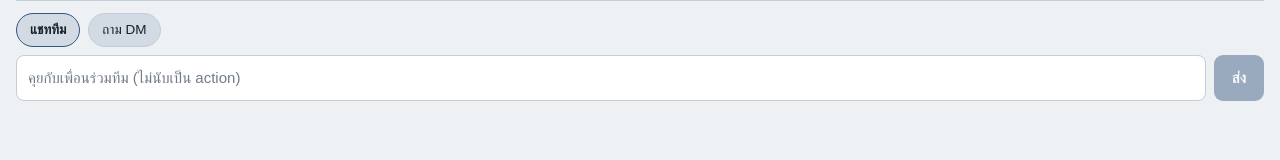
Test: ChatPanel › locks the ask box when the quota is 0 but keeps team chat usable
Click the tab "ถาม DM": [124, 30] box [88, 13, 160, 47]
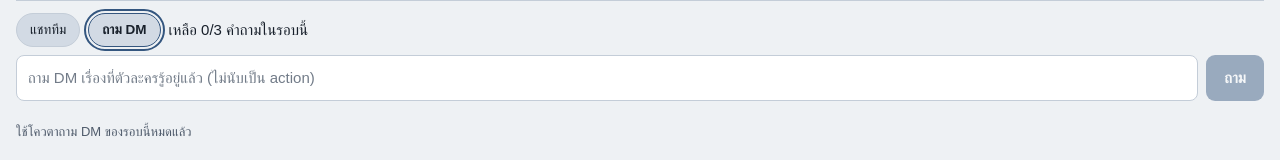
Check: the text "เหลือ 0/3 คำถามในรอบนี้" is shown, box [168, 18, 308, 42]
Check: the field named "คำถามถึง DM" is disabled, box [16, 55, 1198, 101]
Click the tab "แชททีม": [48, 30] box [16, 13, 80, 47]
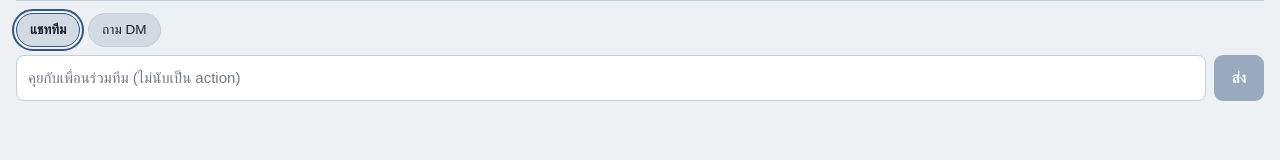
Check: the field named "ข้อความแชททีม" is enabled, box [16, 55, 1206, 101]
